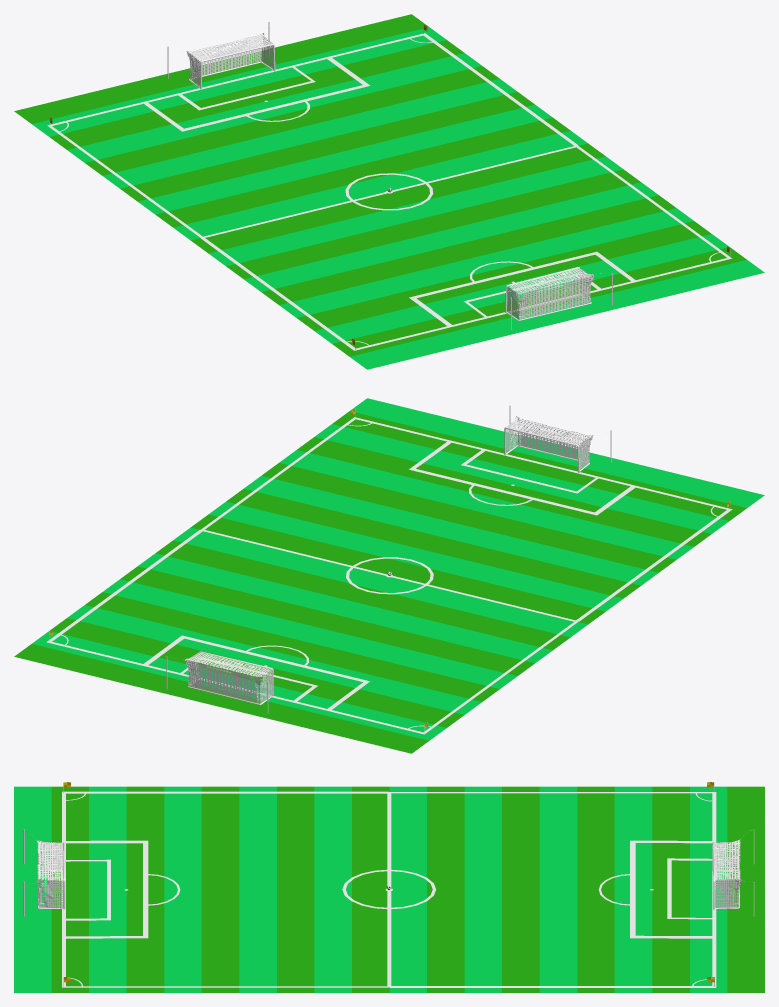
The model's file is professional_soccer_field.glb.
The picture shows the model from 3 angles, top to bottom: view 1: azimuth 30°, elevation 25°; view 2: azimuth 150°, elevation 25°; view 3: azimuth 270°, elevation 25°; orthographic projection. The views are drawn at different scales.
Parts seen in each view (by area): view 1: Object_11, Object_7, Object_6, Object_5, Object_2, Object_4, Object_3; view 2: Object_11, Object_7, Object_6, Object_5, Object_2, Object_3, Object_4; view 3: Object_11, Object_7, Object_6, Object_5, Object_2, Object_3, Object_4.
Part boxes in pixels (x1,y1,x2,y2): Object_11: (14,14,711,330); Object_7: (32,27,693,317); Object_6: (314,234,764,369); Object_5: (47,25,731,350); Object_2: (332,247,746,356); Object_4: (507,268,593,319); Object_3: (167,21,612,329); Object_11: (14,437,711,753); Object_7: (32,450,693,740); Object_6: (314,398,764,533); Object_5: (46,408,732,734); Object_2: (332,411,746,520); Object_3: (166,405,611,713); Object_4: (506,416,593,469); Object_11: (126,786,764,992); Object_7: (164,786,727,992); Object_6: (14,786,126,992); Object_5: (37,782,740,987); Object_2: (51,786,88,992); Object_3: (23,829,754,916); Object_4: (36,840,63,908).
Size of the model in its own units: 30.72 by 2.38 by 47.26.
